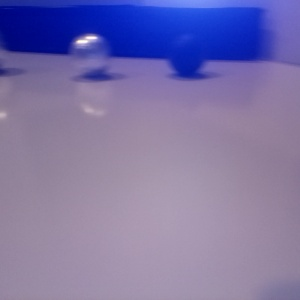alive_ball: (17, 31, 102, 115)
